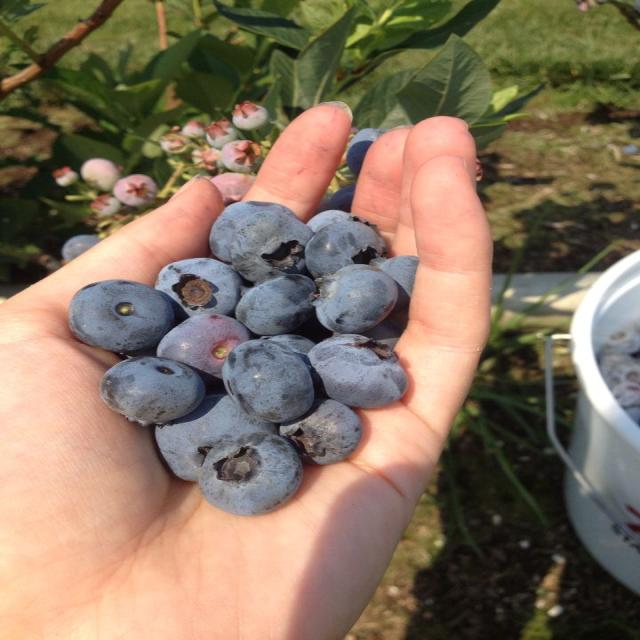blueberry: (155, 394, 275, 481), (200, 433, 302, 515), (70, 280, 174, 354), (223, 340, 313, 422), (309, 334, 407, 407), (100, 357, 205, 423), (231, 205, 312, 282), (312, 264, 398, 333), (158, 313, 250, 377), (209, 201, 295, 263), (280, 399, 362, 464), (156, 258, 242, 315), (236, 274, 315, 335), (305, 220, 385, 277), (369, 255, 418, 309), (362, 304, 407, 349), (346, 128, 386, 174), (113, 174, 157, 207), (221, 140, 263, 173), (80, 158, 120, 191), (232, 101, 269, 130), (62, 234, 101, 261), (307, 209, 350, 233), (264, 334, 315, 354), (205, 119, 239, 149), (328, 185, 356, 211)
